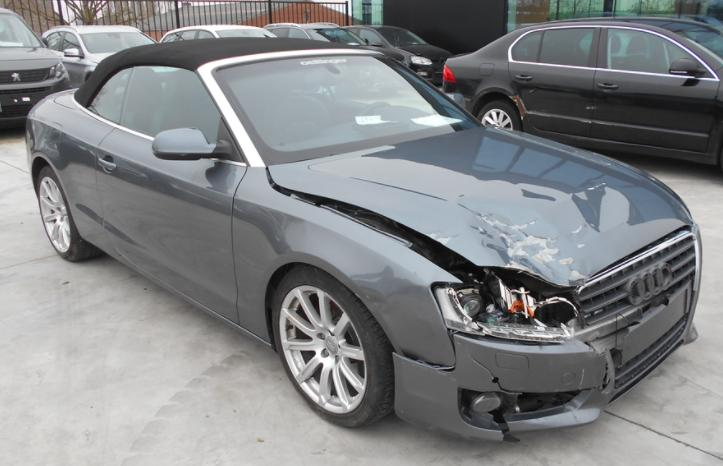Back-wheel: (36, 166, 106, 262)
Back-window: (88, 68, 132, 124)
Fender: (232, 167, 462, 366), (594, 153, 691, 216)
Front-bumper: (394, 269, 703, 443)
Front-door: (96, 126, 247, 325)
Front-wheel: (272, 266, 395, 427)
Front-window: (118, 66, 221, 142)
Grille: (575, 232, 696, 325)
Headlight: (436, 288, 574, 343)
Hood: (267, 125, 693, 286)
Mirror: (152, 127, 231, 160), (445, 93, 465, 109)
Quarter-panel: (26, 92, 118, 247)
Rocker-panel: (80, 232, 272, 349)
Roof: (109, 37, 370, 71)
Windshield: (213, 54, 480, 165)
